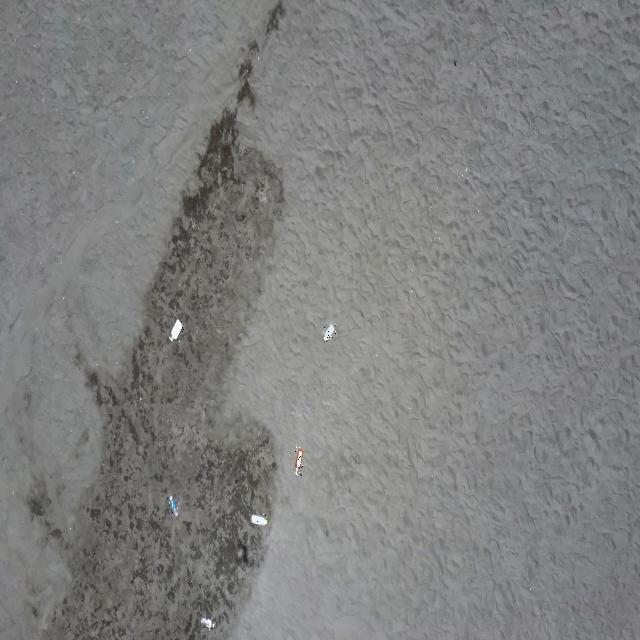Garbage: (169, 319, 181, 340), (295, 448, 303, 475), (168, 495, 178, 516), (323, 323, 335, 340), (200, 616, 215, 628), (252, 513, 267, 523)
